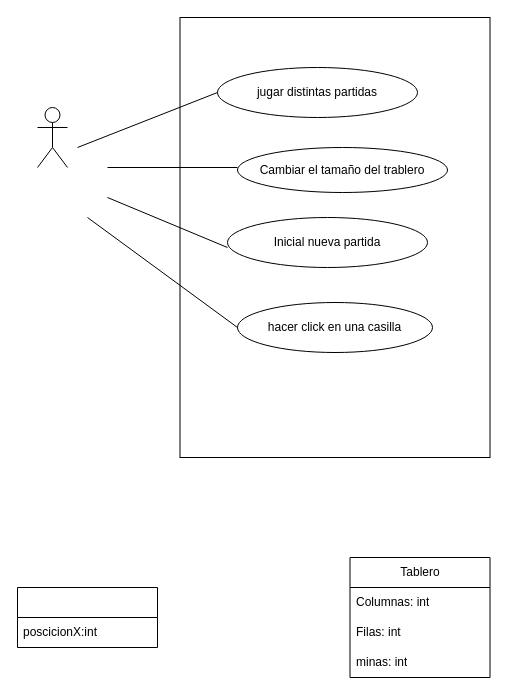
The diagram is 508 pixels wide and 695 high, and some of its shapes have lost their labels. The shapes that lost their labels are listed below. From the top down, each one's box as (x1, y1, x2, y2) in pixels, then its label:
(36, 106, 68, 168): Juagador
(16, 586, 158, 648): Ventana
